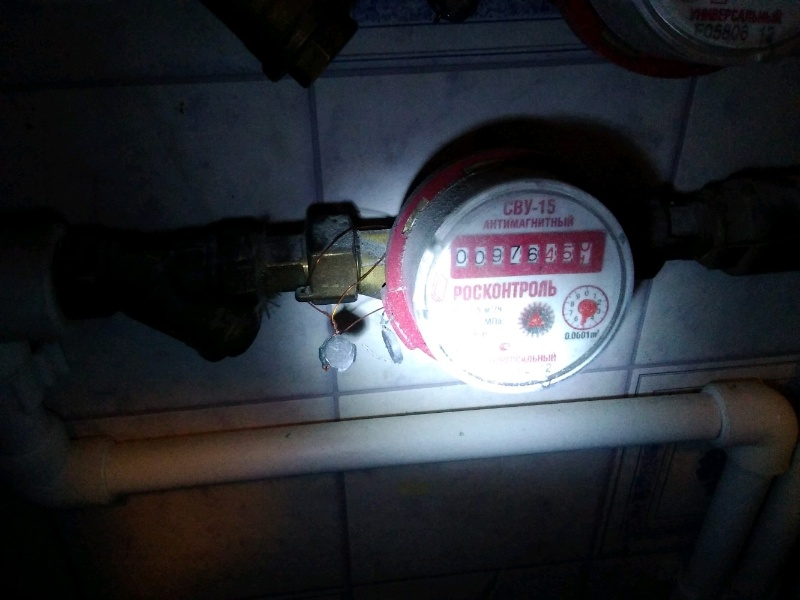meter: (446, 238, 604, 270)
